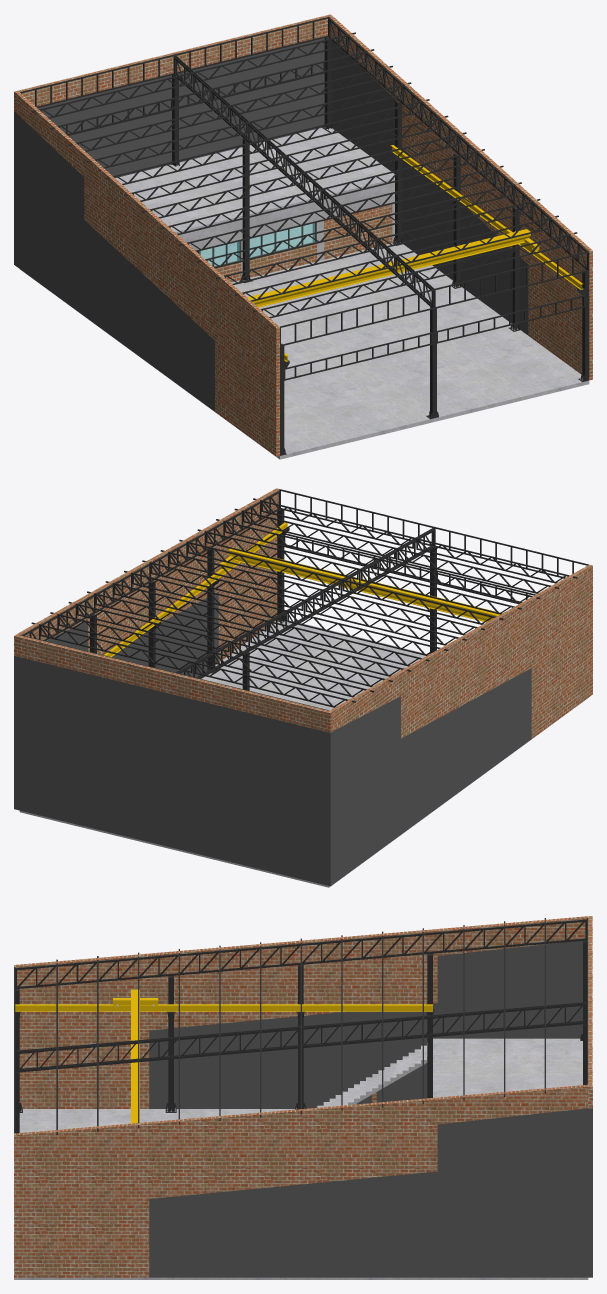
The model's file is build2.glb.
The picture shows the model from 3 angles, top to bottom: view 1: azimuth 30°, elevation 25°; view 2: azimuth 150°, elevation 25°; view 3: azimuth 270°, elevation 25°; orthographic projection. The views are drawn at different scales.
Parts seen in each view (by area): view 1: Object_14, Object_13, Object_2, Object_6, Object_5, Object_7, Object_3, Object_4; view 2: Object_13, Object_2, Object_6, Object_7, Object_5, Object_14, Object_3; view 3: Object_2, Object_13, Object_14, Object_5, Object_6, Object_3, Object_7.
Part boxes in pixels (<box>): Object_14: <box>20,128,589,459</box>; Object_13: <box>14,38,528,411</box>; Object_2: <box>14,14,592,456</box>; Object_6: <box>35,22,588,455</box>; Object_5: <box>20,16,589,419</box>; Object_7: <box>31,36,584,453</box>; Object_3: <box>247,145,582,361</box>; Object_4: <box>201,223,314,266</box>; Object_13: <box>14,592,531,886</box>; Object_2: <box>14,488,592,738</box>; Object_6: <box>31,494,577,706</box>; Object_7: <box>40,501,567,707</box>; Object_5: <box>20,489,588,710</box>; Object_14: <box>19,620,588,887</box>; Object_3: <box>103,522,502,656</box>; Object_2: <box>14,916,592,1277</box>; Object_13: <box>149,941,592,1277</box>; Object_14: <box>14,1038,588,1279</box>; Object_5: <box>14,918,588,1134</box>; Object_6: <box>15,921,586,1133</box>; Object_3: <box>15,989,432,1123</box>; Object_7: <box>19,918,582,1111</box>.
Size of the model in its own units: 18.3 by 9.56 by 25.7.
8 materials, 2 textured.
